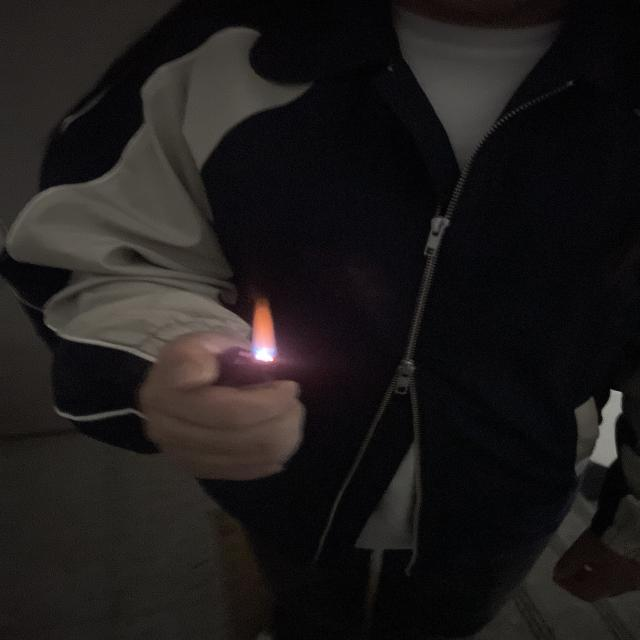fire: (254, 299, 274, 362)
